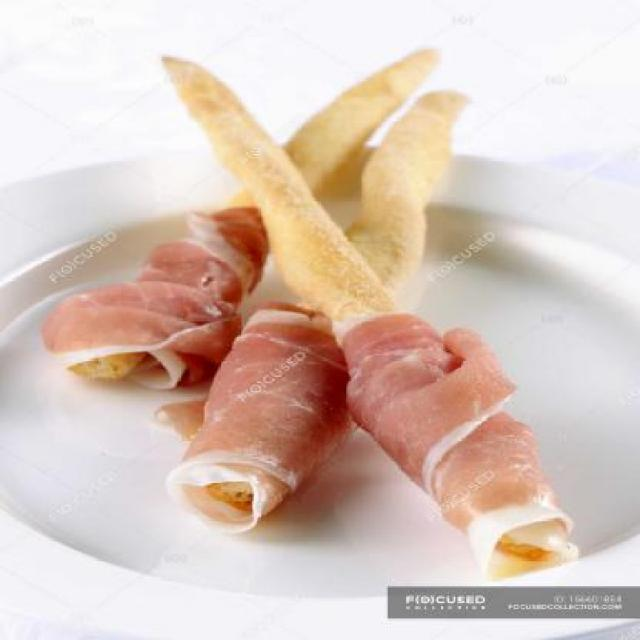Grissini: (70, 53, 610, 570)
